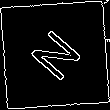N_SE: (23, 23, 87, 87)
